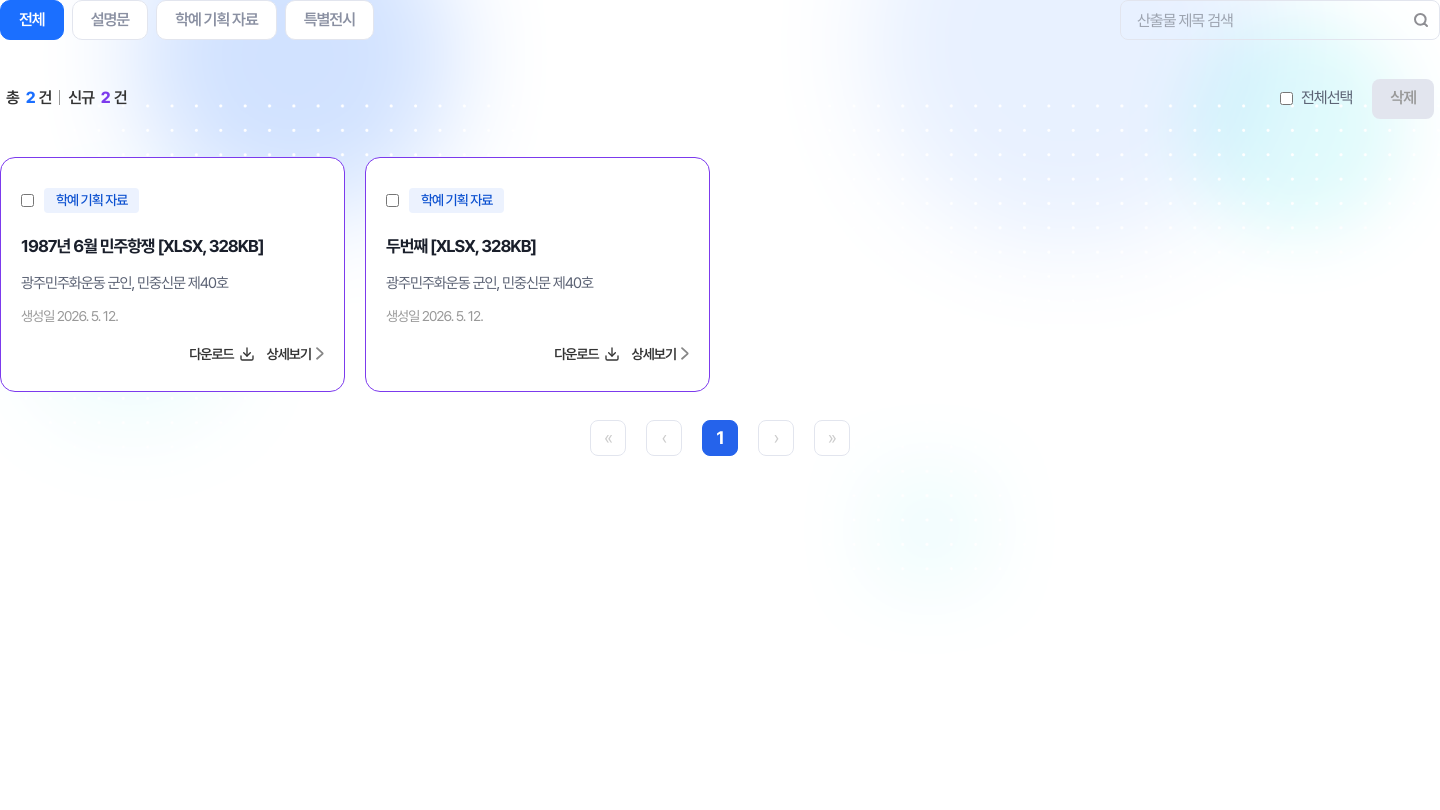
Test: 선택과 삭제 (5-3·5-4) › 요청보다 적게 지워지면 그 사실을 알린다
Click the checkbox labelled "전체선택".
click(1286, 98)  # box [1280,76,1293,121]
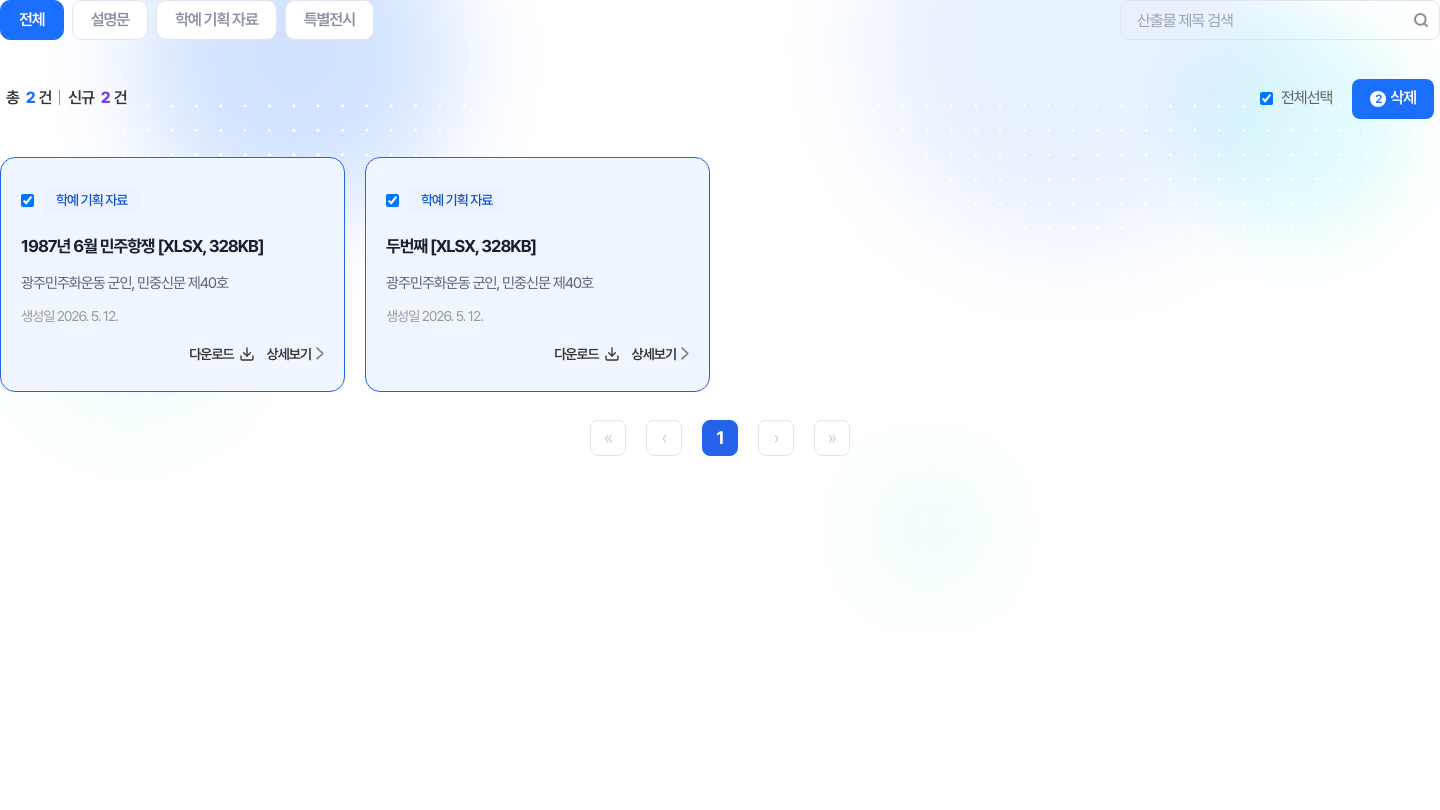
Click the button "2 삭제".
click(1393, 98)  # box [1352,78,1434,118]
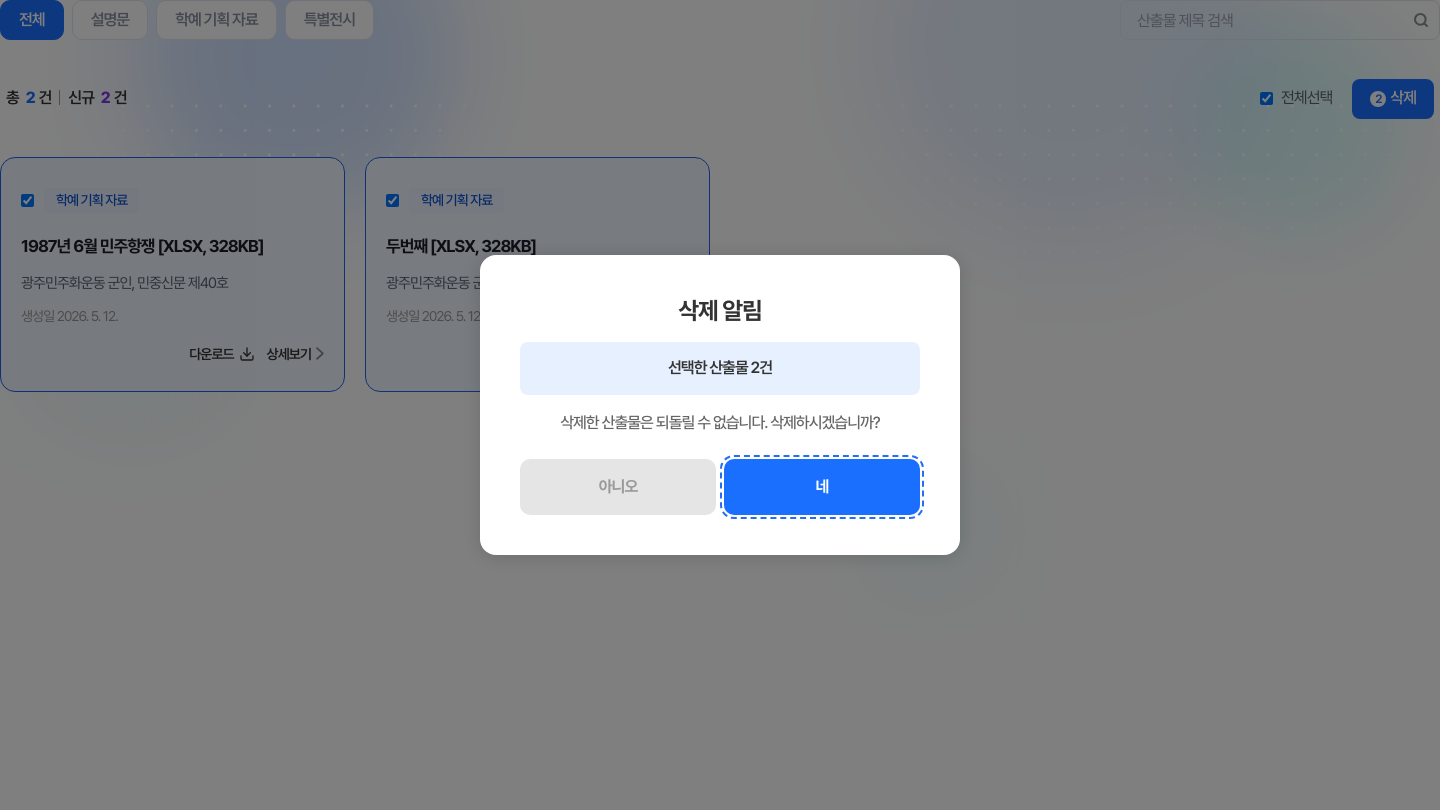
Click the button "네".
click(822, 487)  # box [724,459,920,515]
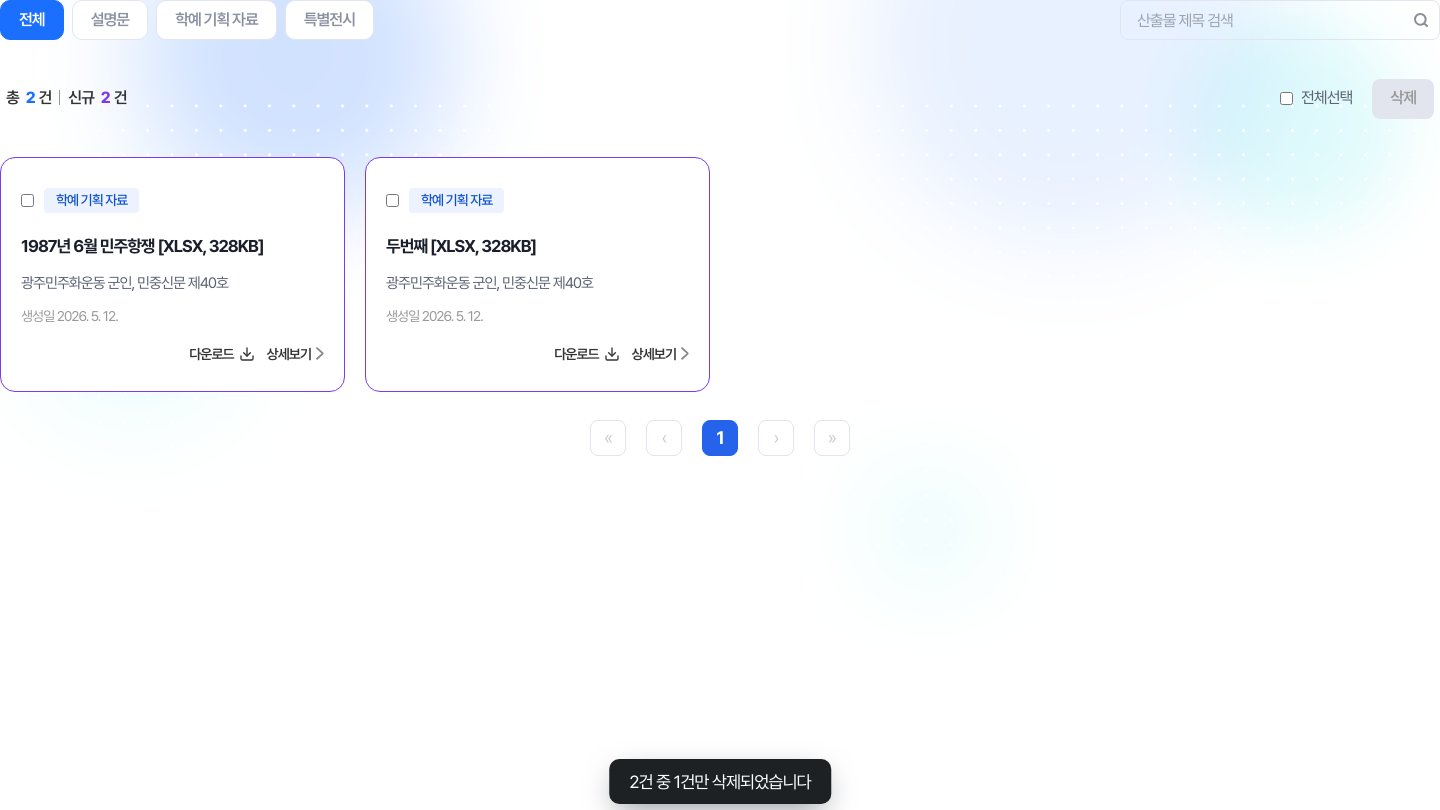
Check: the message reads "2건 중 1건만 삭제되었습니다", box [629,771,811,792]
